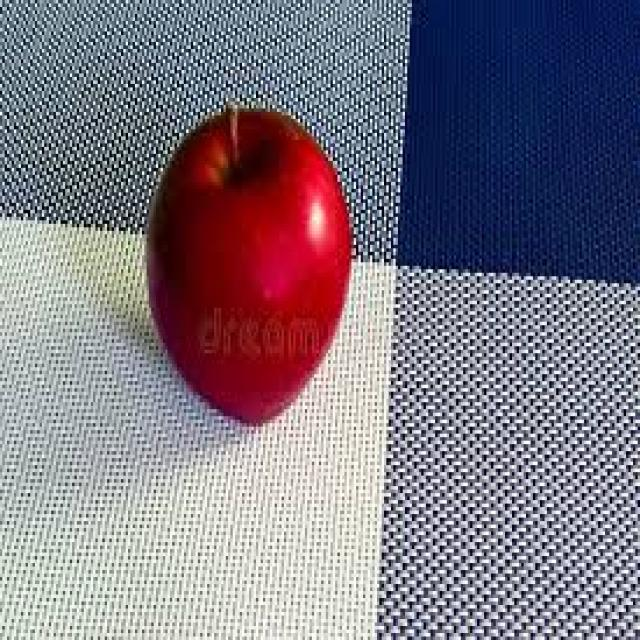non_orange: (96, 108, 384, 439)
